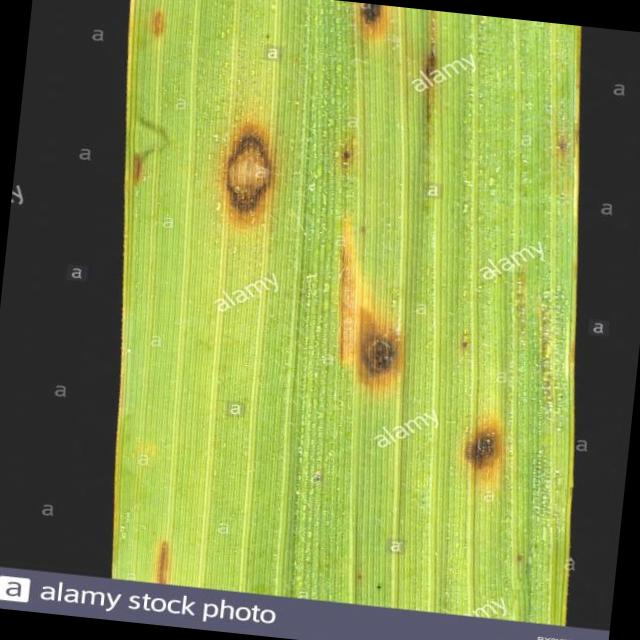Rice_Brownspot: (306, 258, 426, 395), (203, 109, 303, 238), (449, 405, 516, 500), (344, 1, 408, 59), (139, 528, 195, 589), (120, 146, 160, 194), (138, 0, 167, 41), (331, 127, 358, 171)
